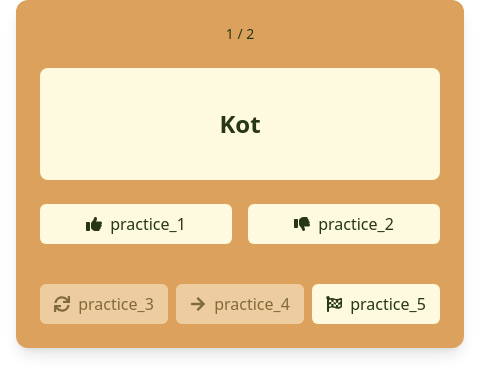
Test: Practice Component › navigates to next card
This screenshot has width=481, height=374.
Expected: the text "Kot" is shown, [40,68,440,180]
Click the button with test id "answer-correct": click(136, 224) [40,204,232,244]
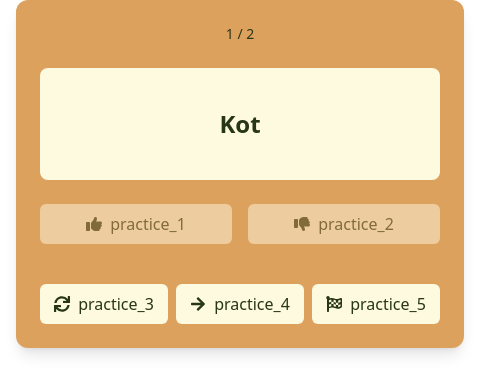
Click the button with test id "next-button": click(240, 304) [176,284,304,324]
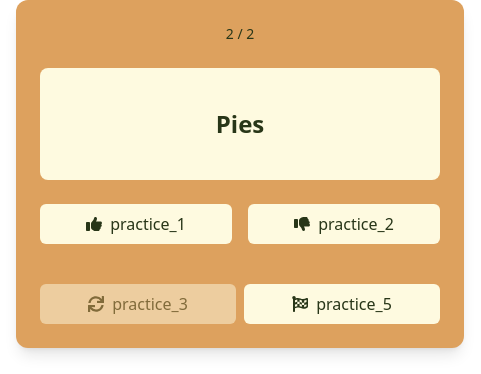
Result: the text with test id "flashcard-display" reads "Pies" at [216,107,264,140]
